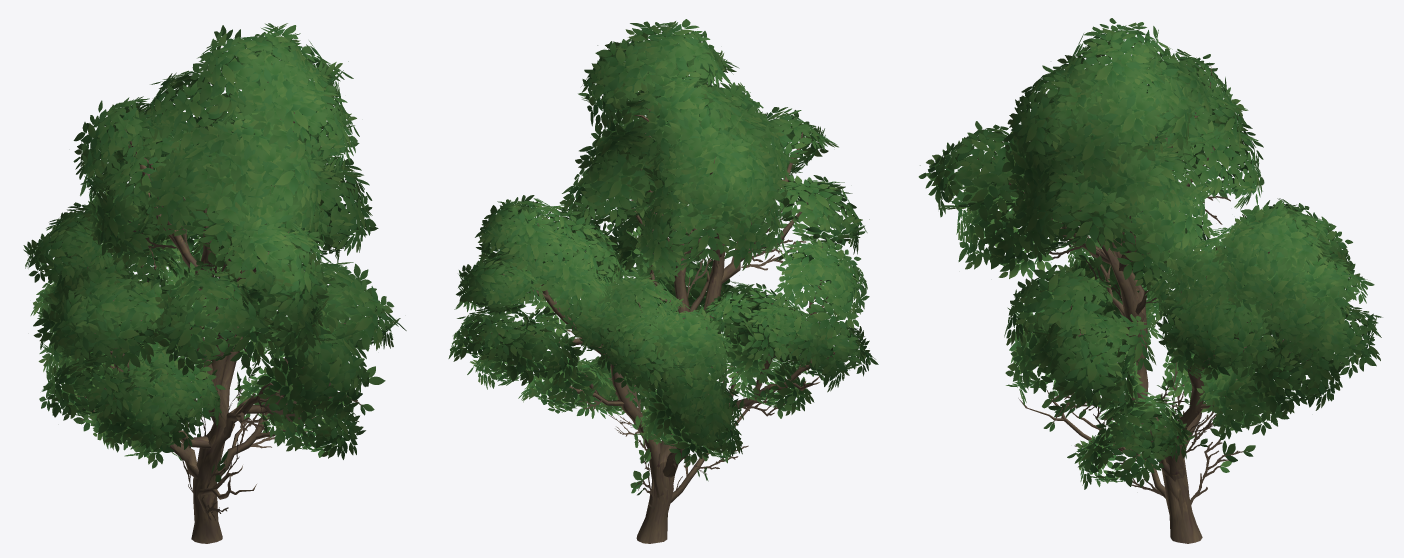
Rendered from SM_FW01_Tree_B_09.fbx.
3 views of the same model, side by side, from view 1: azimuth 30°, elevation 25°; view 2: azimuth 150°, elevation 25°; view 3: azimuth 270°, elevation 25° (orthographic). The views are drawn at different scales.
Parts seen in each view (by area): view 1: SM_FW01_Tree_B_09_LOD0; view 2: SM_FW01_Tree_B_09_LOD0; view 3: SM_FW01_Tree_B_09_LOD0.
Boxes of the visible parts, x1,y1,x2,y2 form: SM_FW01_Tree_B_09_LOD0: (23,23,406,543); SM_FW01_Tree_B_09_LOD0: (448,19,878,543); SM_FW01_Tree_B_09_LOD0: (918,18,1382,543).
Size of what is drawn, in the model's own units: 4.57 by 6.37 by 5.27.
